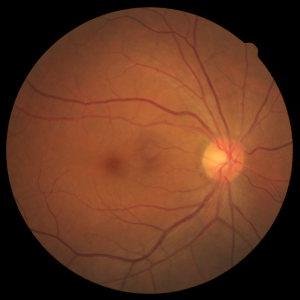healthy_eye: (61, 96, 266, 217)
